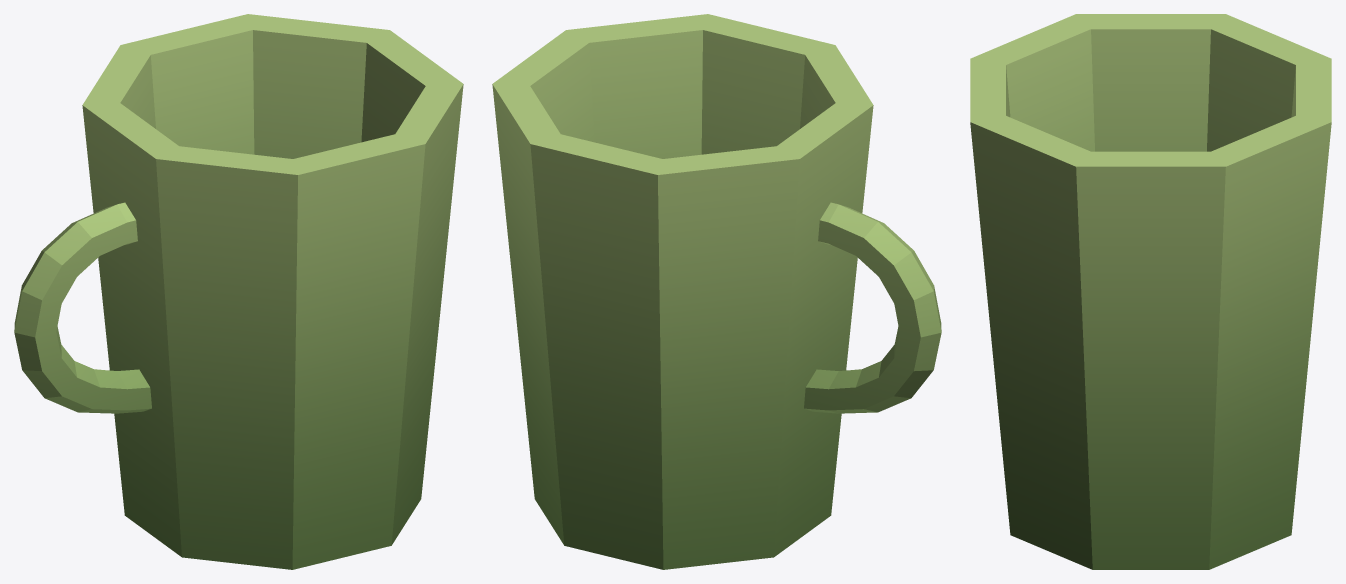
File: Cup2_C4.fbx
3 renders of one model, left to right at view 1: azimuth 30°, elevation 25°; view 2: azimuth 150°, elevation 25°; view 3: azimuth 270°, elevation 25°, orthographic.
Visible parts, largest first — view 1: Cup2_C4; view 2: Cup2_C4; view 3: Cup2_C4.
Boxes of the visible parts, <box> form: Cup2_C4: <box>14,14,463,569</box>; Cup2_C4: <box>492,14,941,569</box>; Cup2_C4: <box>970,14,1331,569</box>.
Size of the model in its own units: 12.45 by 11.91 by 9.29.
